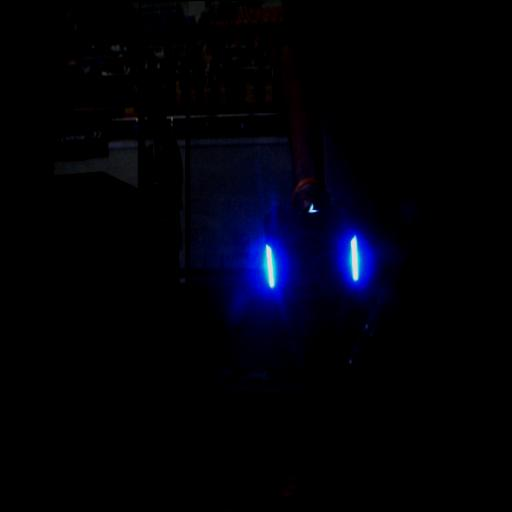target: (264, 210, 358, 308)
